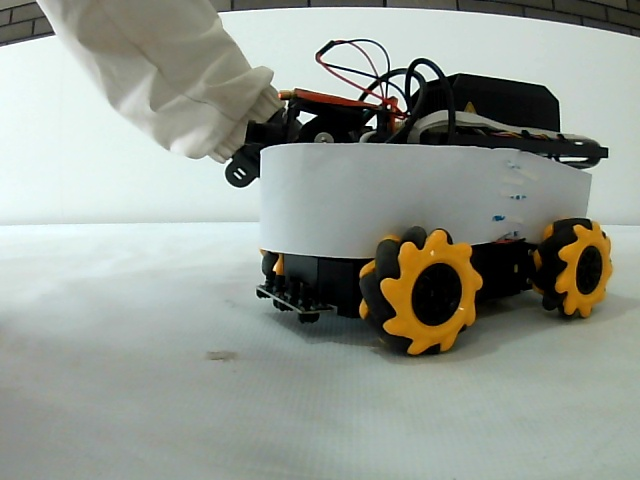car: (250, 61, 616, 354)
paper: (259, 148, 595, 220)
